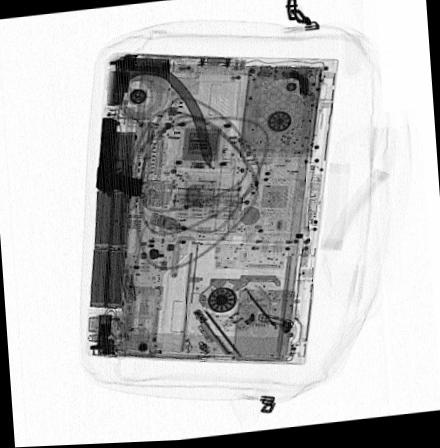Gun: (92, 118, 143, 198)
